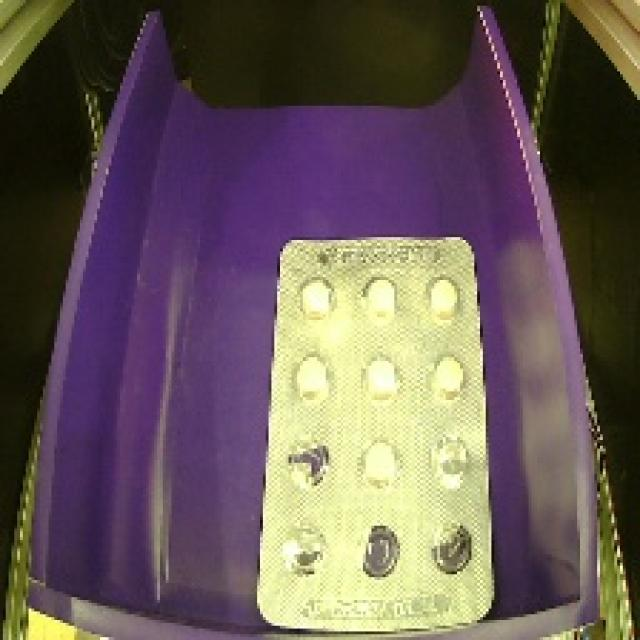med_plate: (242, 220, 508, 640)
